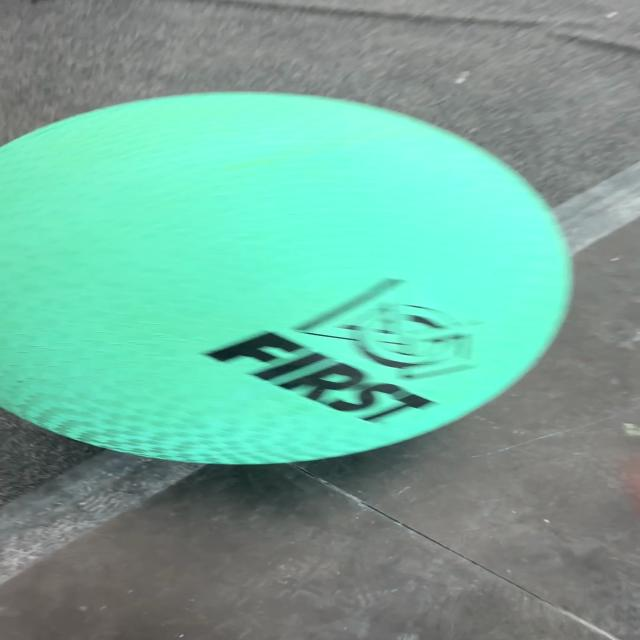Algae: (2, 90, 576, 466)
